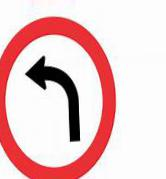left: (2, 15, 117, 179)
